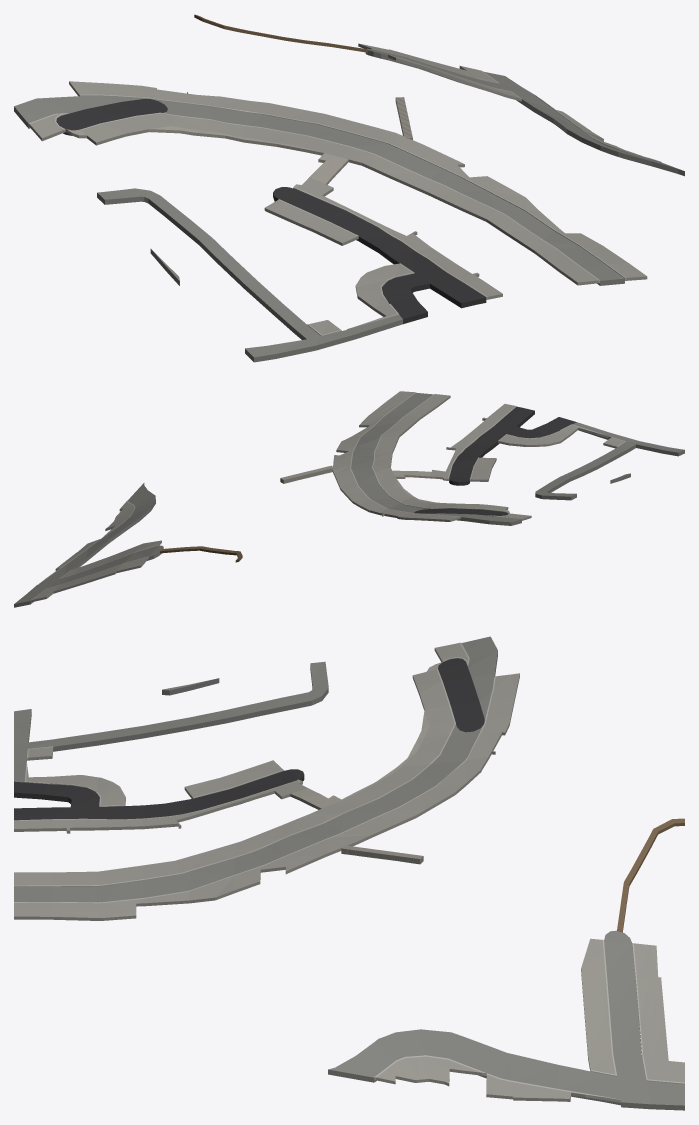
Rendered from 18-218868-118976.4831feb6.glb.
The picture shows the model from 3 angles, top to bottom: view 1: azimuth 30°, elevation 25°; view 2: azimuth 150°, elevation 25°; view 3: azimuth 270°, elevation 25°; orthographic projection. The views are drawn at different scales.
Bounding box in the file's own units: 147 × 45.25 × 146.
